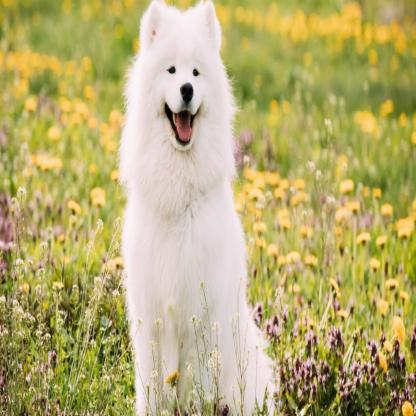dog: (120, 0, 277, 412)
